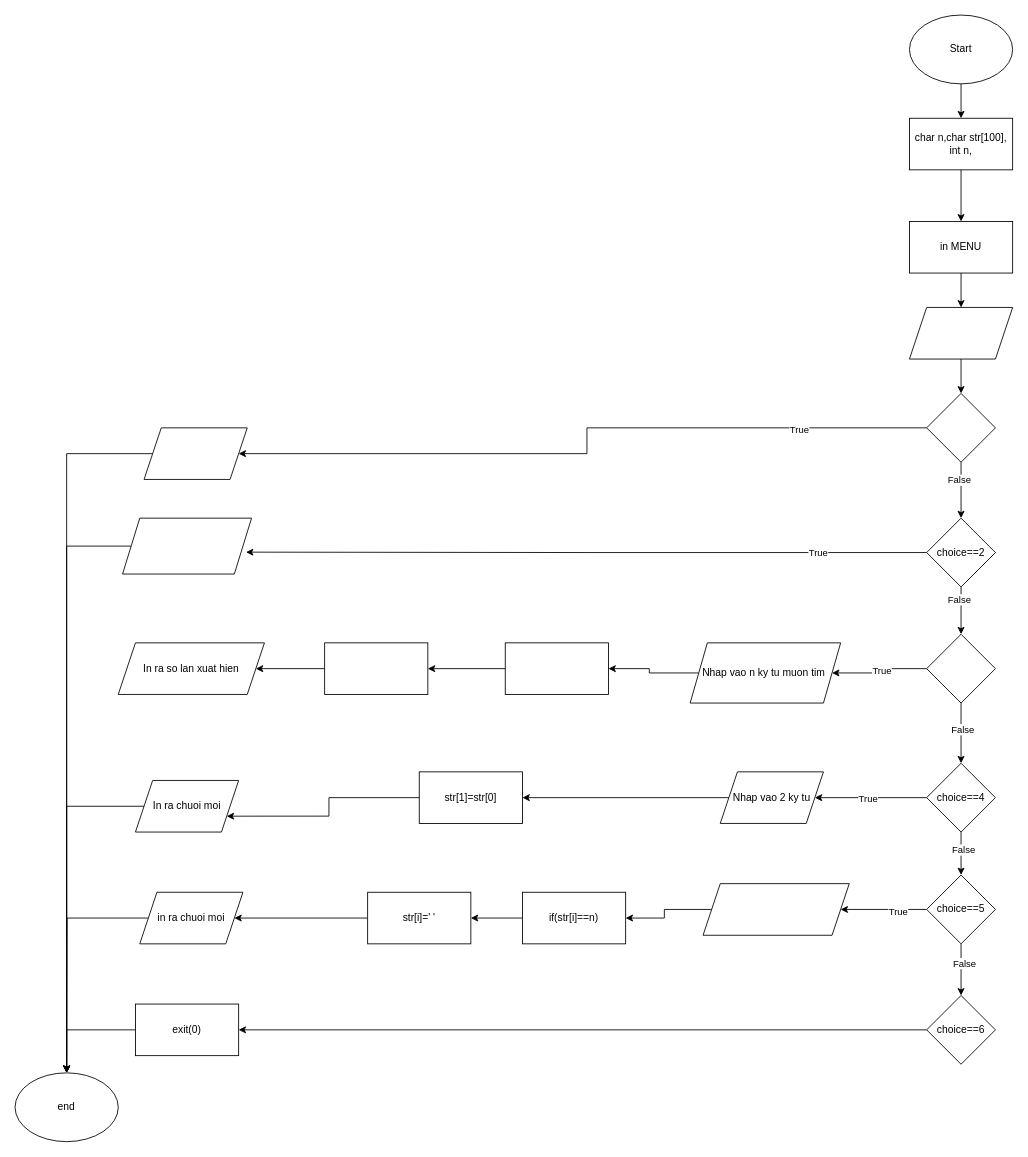
Some shapes in this 1028 by 1157 pixel diagram are drawn without their labels. The shapes that lost their labels are listed below. From the top down, each one's centre as x and y in pixels, then its label:
point 961,333: lua chon cua ban (choice)
point 960,427: choice==1
point 195,453: Nhap vao ky tu
point 187,545: In ra ky tu vua nhap
point 376,668: count++
point 556,668: str[i]==n
point 960,668: choice==3
point 775,909: Nhap vao ky tu muon xoa
